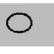no answer: (5, 12, 35, 36)
